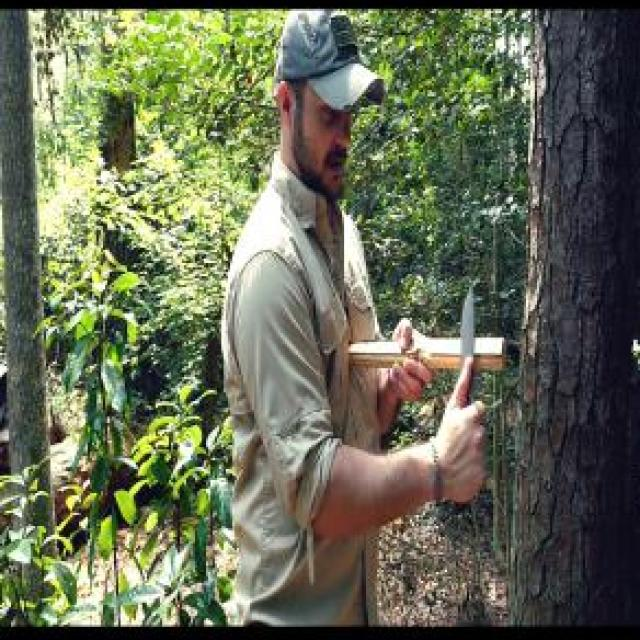knife: (445, 276, 492, 484)
